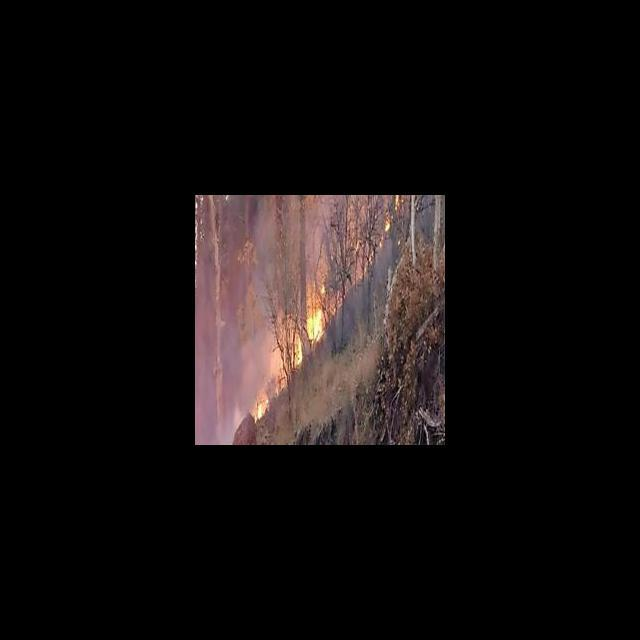Fire: (286, 304, 329, 366), (252, 394, 269, 420)
